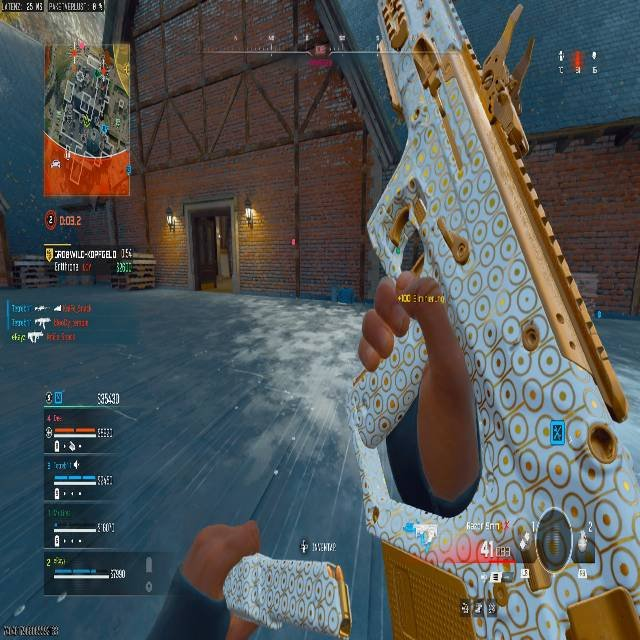player: (147, 147, 638, 640), (40, 45, 125, 157)
